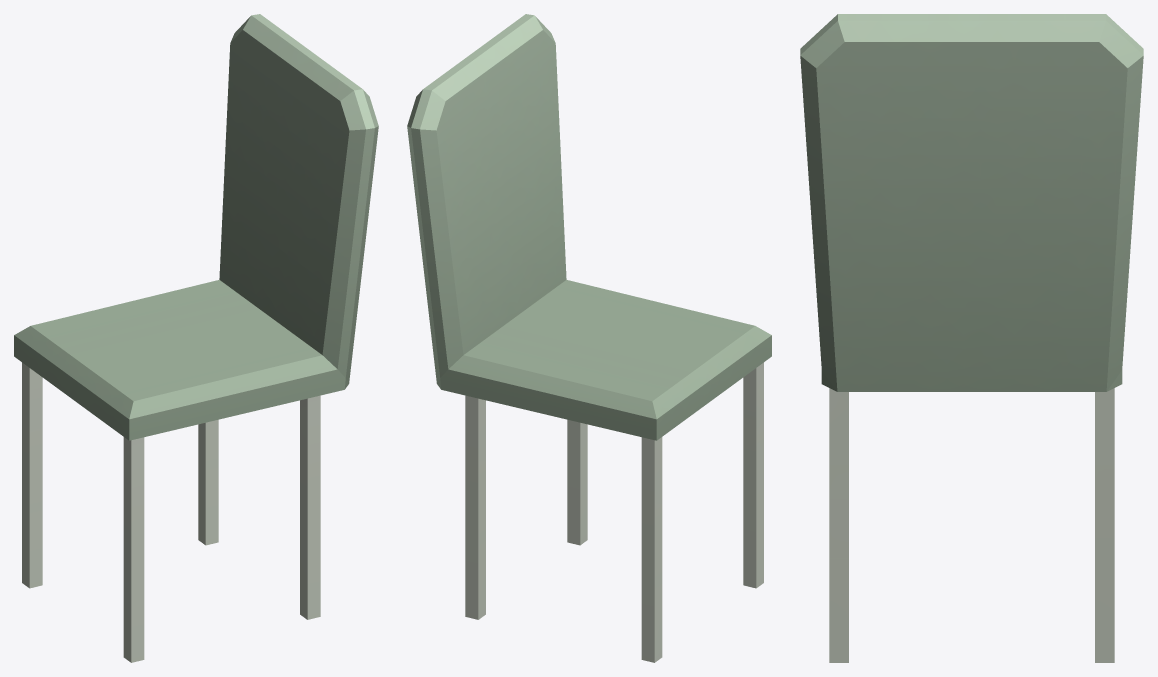
Rendered from chair.glb.
3 renders of one model, left to right at view 1: azimuth 30°, elevation 25°; view 2: azimuth 150°, elevation 25°; view 3: azimuth 270°, elevation 25°, orthographic. The views are drawn at different scales.
Parts seen in each view (by area): view 1: Chair.001; view 2: Chair.001; view 3: Chair.001.
Boxes of the visible parts, x1,y1,x2,y2 form: Chair.001: (14, 14, 378, 662); Chair.001: (407, 14, 771, 662); Chair.001: (800, 14, 1143, 662).
Size of the model in its own units: 0.4691 by 0.9259 by 0.4287.
Materials: 1 (1 with a texture image).
